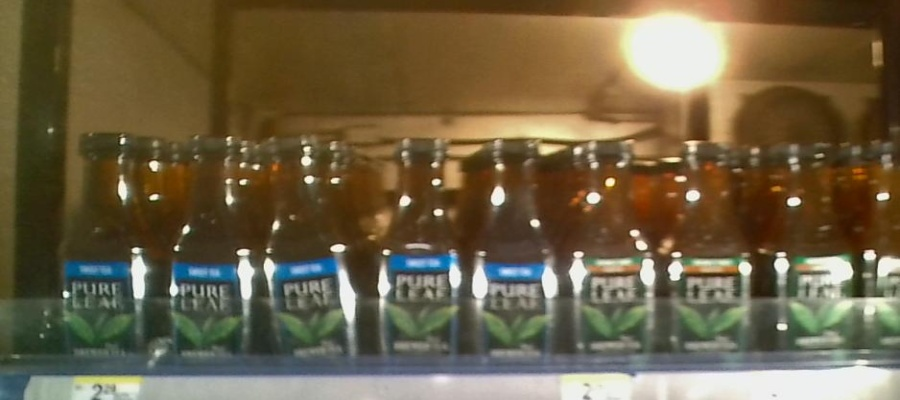bottle: (261, 127, 367, 361), (467, 124, 572, 355), (652, 124, 757, 349), (367, 126, 467, 358), (757, 128, 859, 355), (57, 119, 155, 355), (167, 124, 260, 359), (568, 124, 655, 356)
